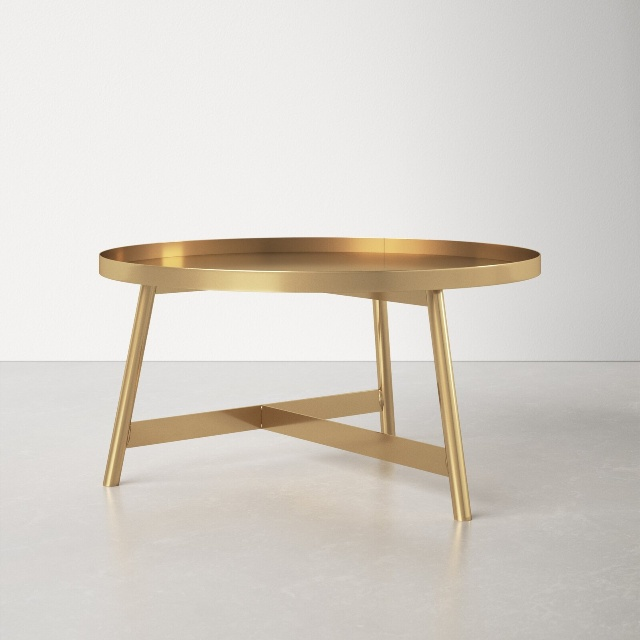obstacle: (99, 238, 540, 520)
